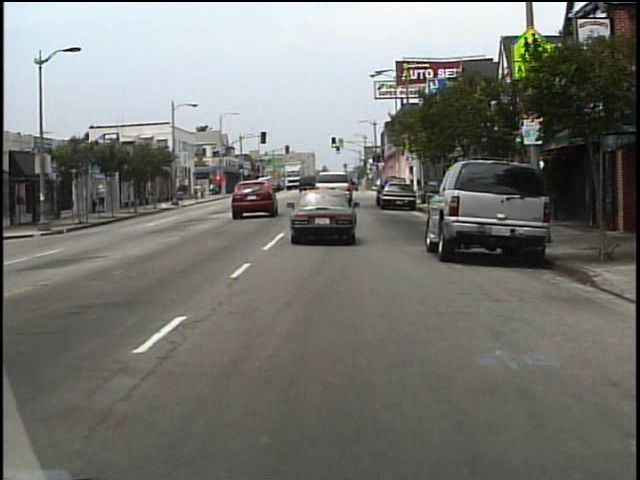person: (99, 185, 112, 214)
